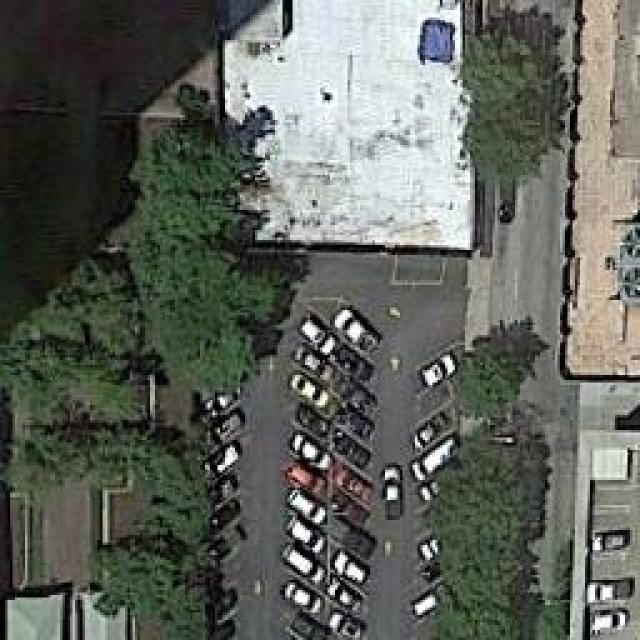Airport: (0, 0, 638, 638)
Forest: (0, 80, 302, 637), (412, 312, 570, 638)
Parking: (171, 250, 464, 634)
